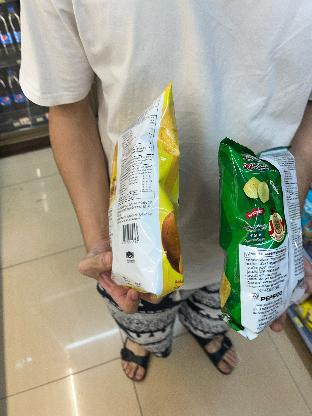Plastic Packaging: (94, 81, 188, 304), (218, 132, 308, 332)
